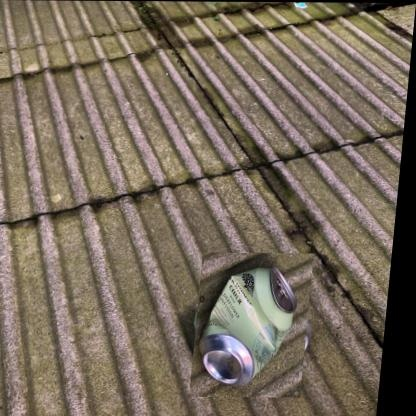trash: (201, 267, 295, 383)
